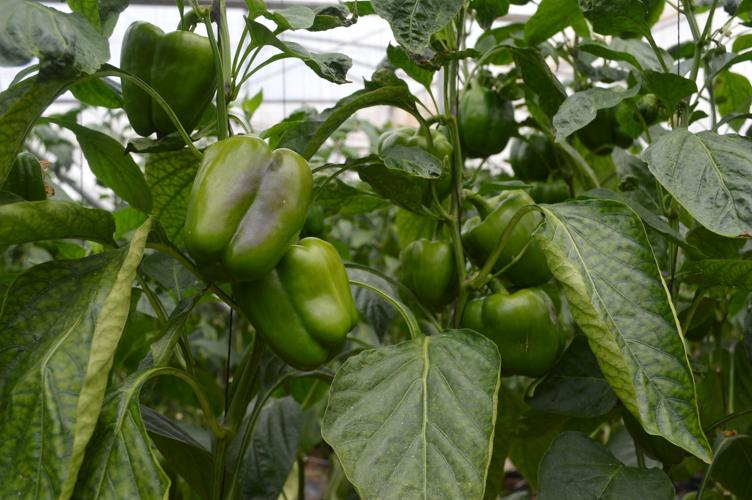BellPepper: (180, 134, 312, 275), (238, 240, 356, 371), (119, 22, 213, 138), (459, 293, 565, 374), (464, 191, 550, 282), (377, 132, 449, 201), (454, 88, 518, 164), (403, 238, 460, 312), (508, 129, 551, 184)
